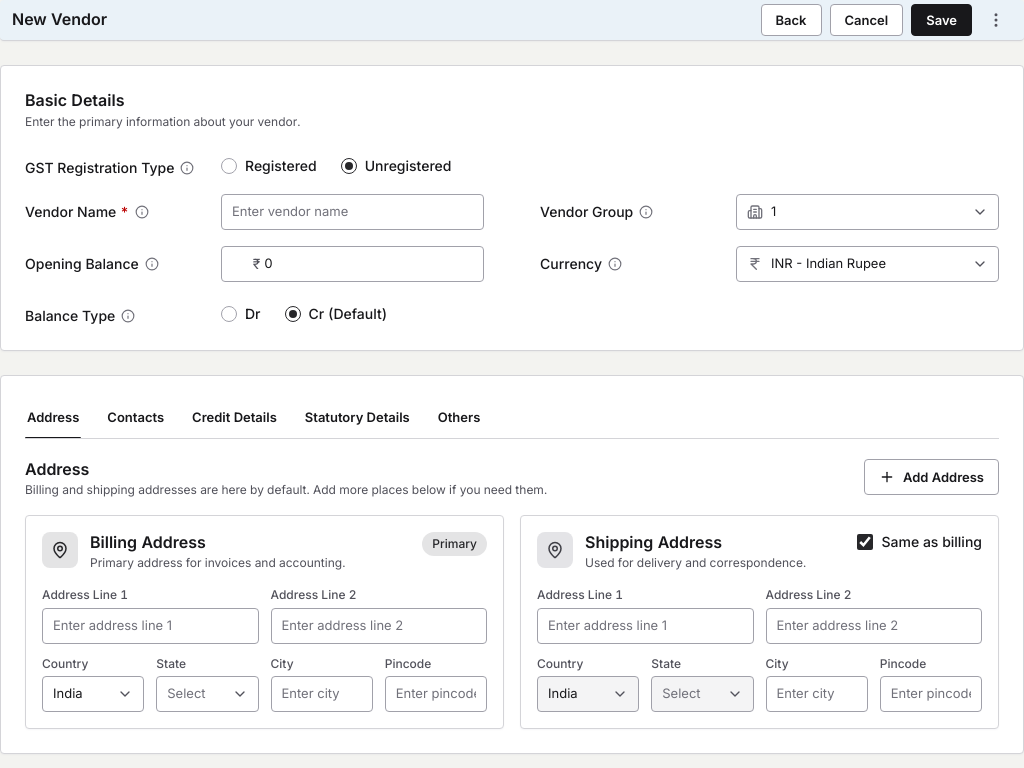
Test case: Fetch from GSTIN › fills an empty name and PAN from the portal
Click the radio button labelled "Registered": (229, 166) left=221, top=158, right=237, bottom=174
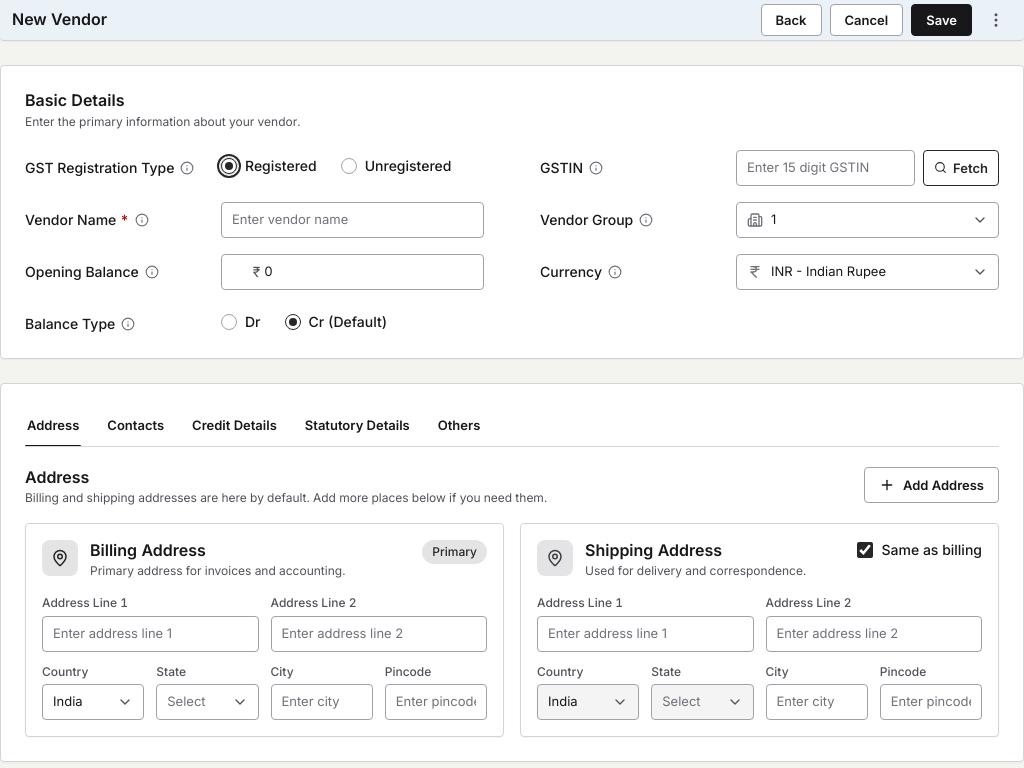
In the field with placeholder "Enter 15 digit GSTIN": (826, 168) left=736, top=150, right=915, bottom=186, type "29AABCU9603R1ZM"
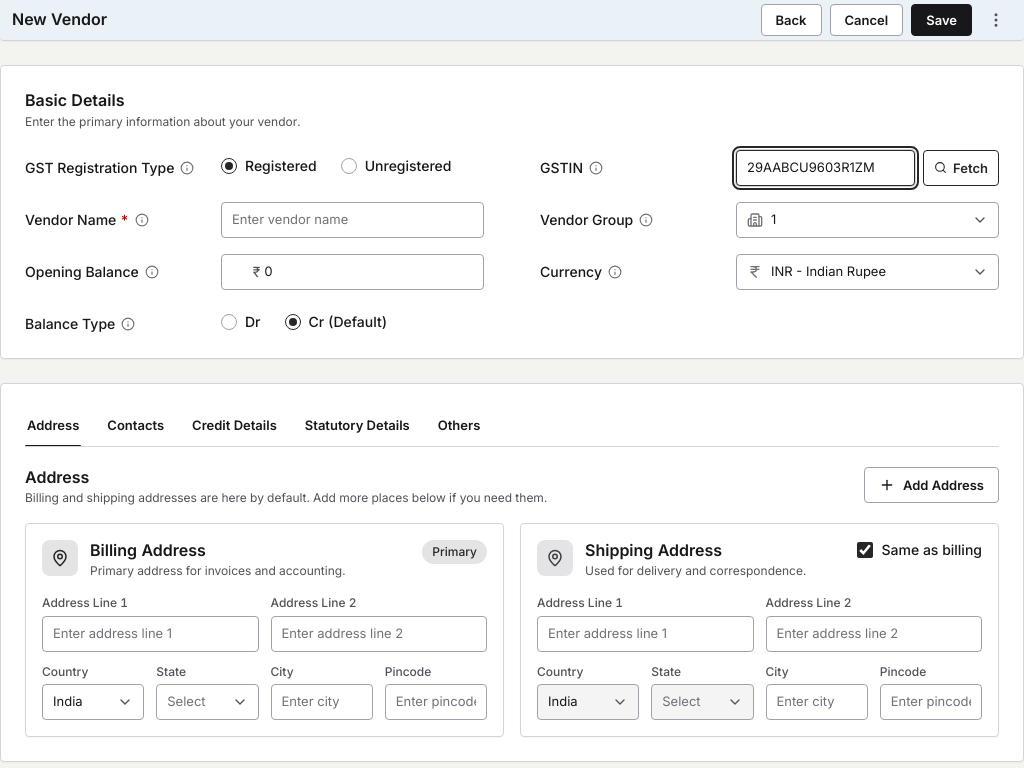
Click the button with aria-label "Fetch from GSTIN": (961, 168) left=923, top=150, right=999, bottom=186
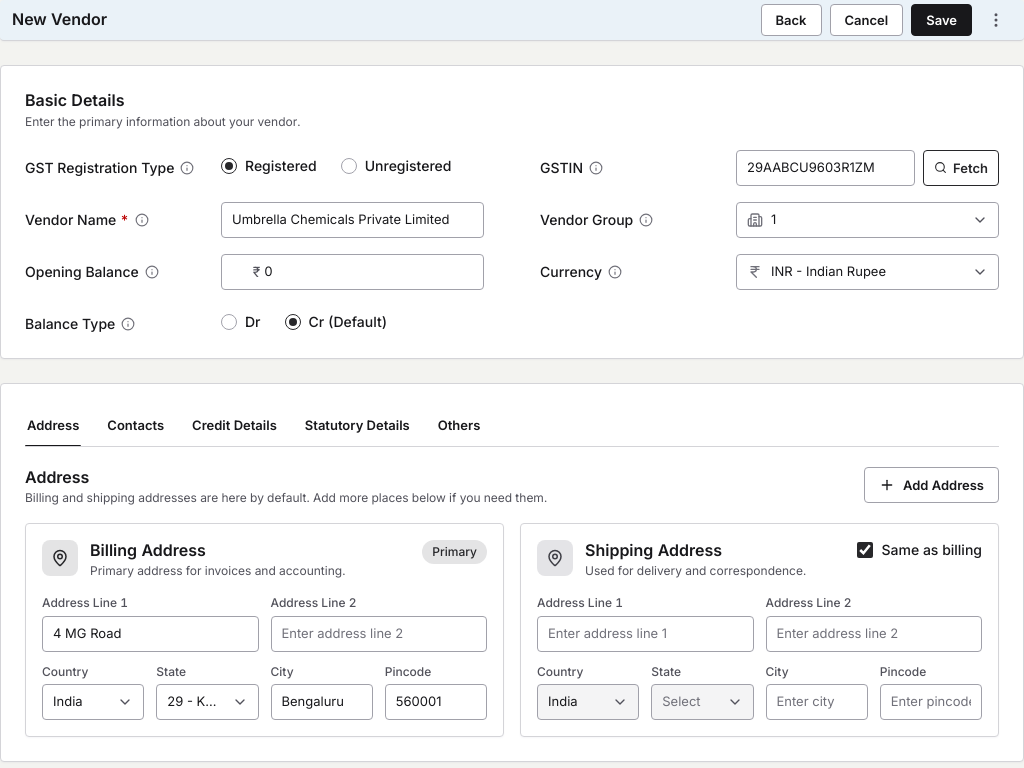
Check: the field showing "Umbrella Chemicals Private Limited" is shown, box left=221, top=202, right=484, bottom=238
